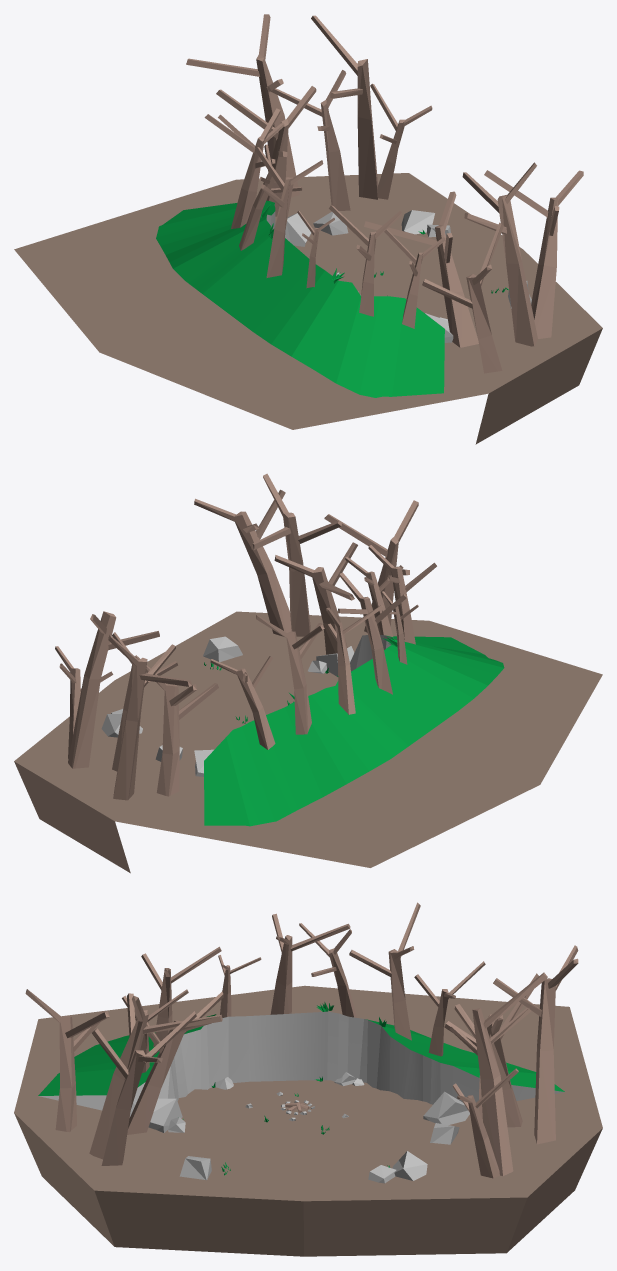
The model's file is hubenviro_OLD.glb.
The picture shows the model from 3 angles, top to bottom: view 1: azimuth 30°, elevation 25°; view 2: azimuth 150°, elevation 25°; view 3: azimuth 270°, elevation 25°; orthographic projection. The views are drawn at different scales.
Parts seen in each view (by area): view 1: ground_geo scene, polySurface10, pCube30, rock_deco_geo; view 2: ground_geo scene, polySurface10, pCube30, rock_deco_geo; view 3: ground_geo scene, polySurface10, rock_deco_geo, pCube30.
Boxes of the visible parts, x1=… form: ground_geo scene: x1=14, y1=173, x2=602, y2=444; polySurface10: x1=186, y1=14, x2=583, y2=373; pCube30: x1=156, y1=200, x2=508, y2=397; rock_deco_geo: x1=266, y1=204, x2=531, y2=342; ground_geo scene: x1=14, y1=611, x2=602, y2=873; polySurface10: x1=55, y1=473, x2=436, y2=800; pCube30: x1=204, y1=635, x2=504, y2=826; rock_deco_geo: x1=101, y1=635, x2=396, y2=776; ground_geo scene: x1=14, y1=985, x2=602, y2=1256; polySurface10: x1=25, y1=902, x2=578, y2=1178; rock_deco_geo: x1=39, y1=1011, x2=564, y2=1183; pCube30: x1=38, y1=1002, x2=564, y2=1175.
Bounding box in the file's own units: 20.41 × 10.77 × 23.57.
